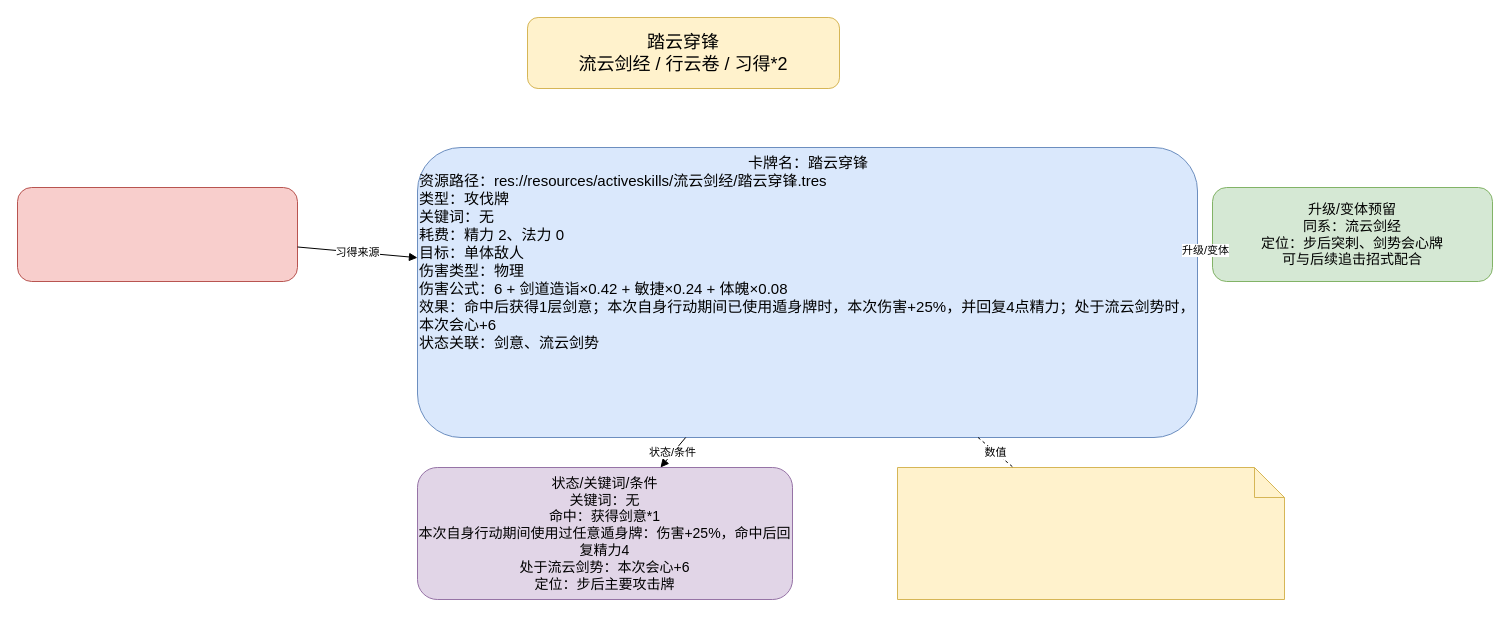
Image size: 1510x617. Some labels were removed from this diagram. The box of each missing label's shape, as (x1, y1, x2, y2) in pixels:
习得来源 来源秘籍：流云剑经 来源卷：行云卷 习得数量：2: (16, 186, 298, 282)
数值摘要 基础伤害：6 伤害类型：physical / 剑术伤害 倍率：剑道造诣*0.42，敏捷*0.24，体魄*0.08 消耗资源：精力16 可配置数量：2: (896, 466, 1284, 600)
